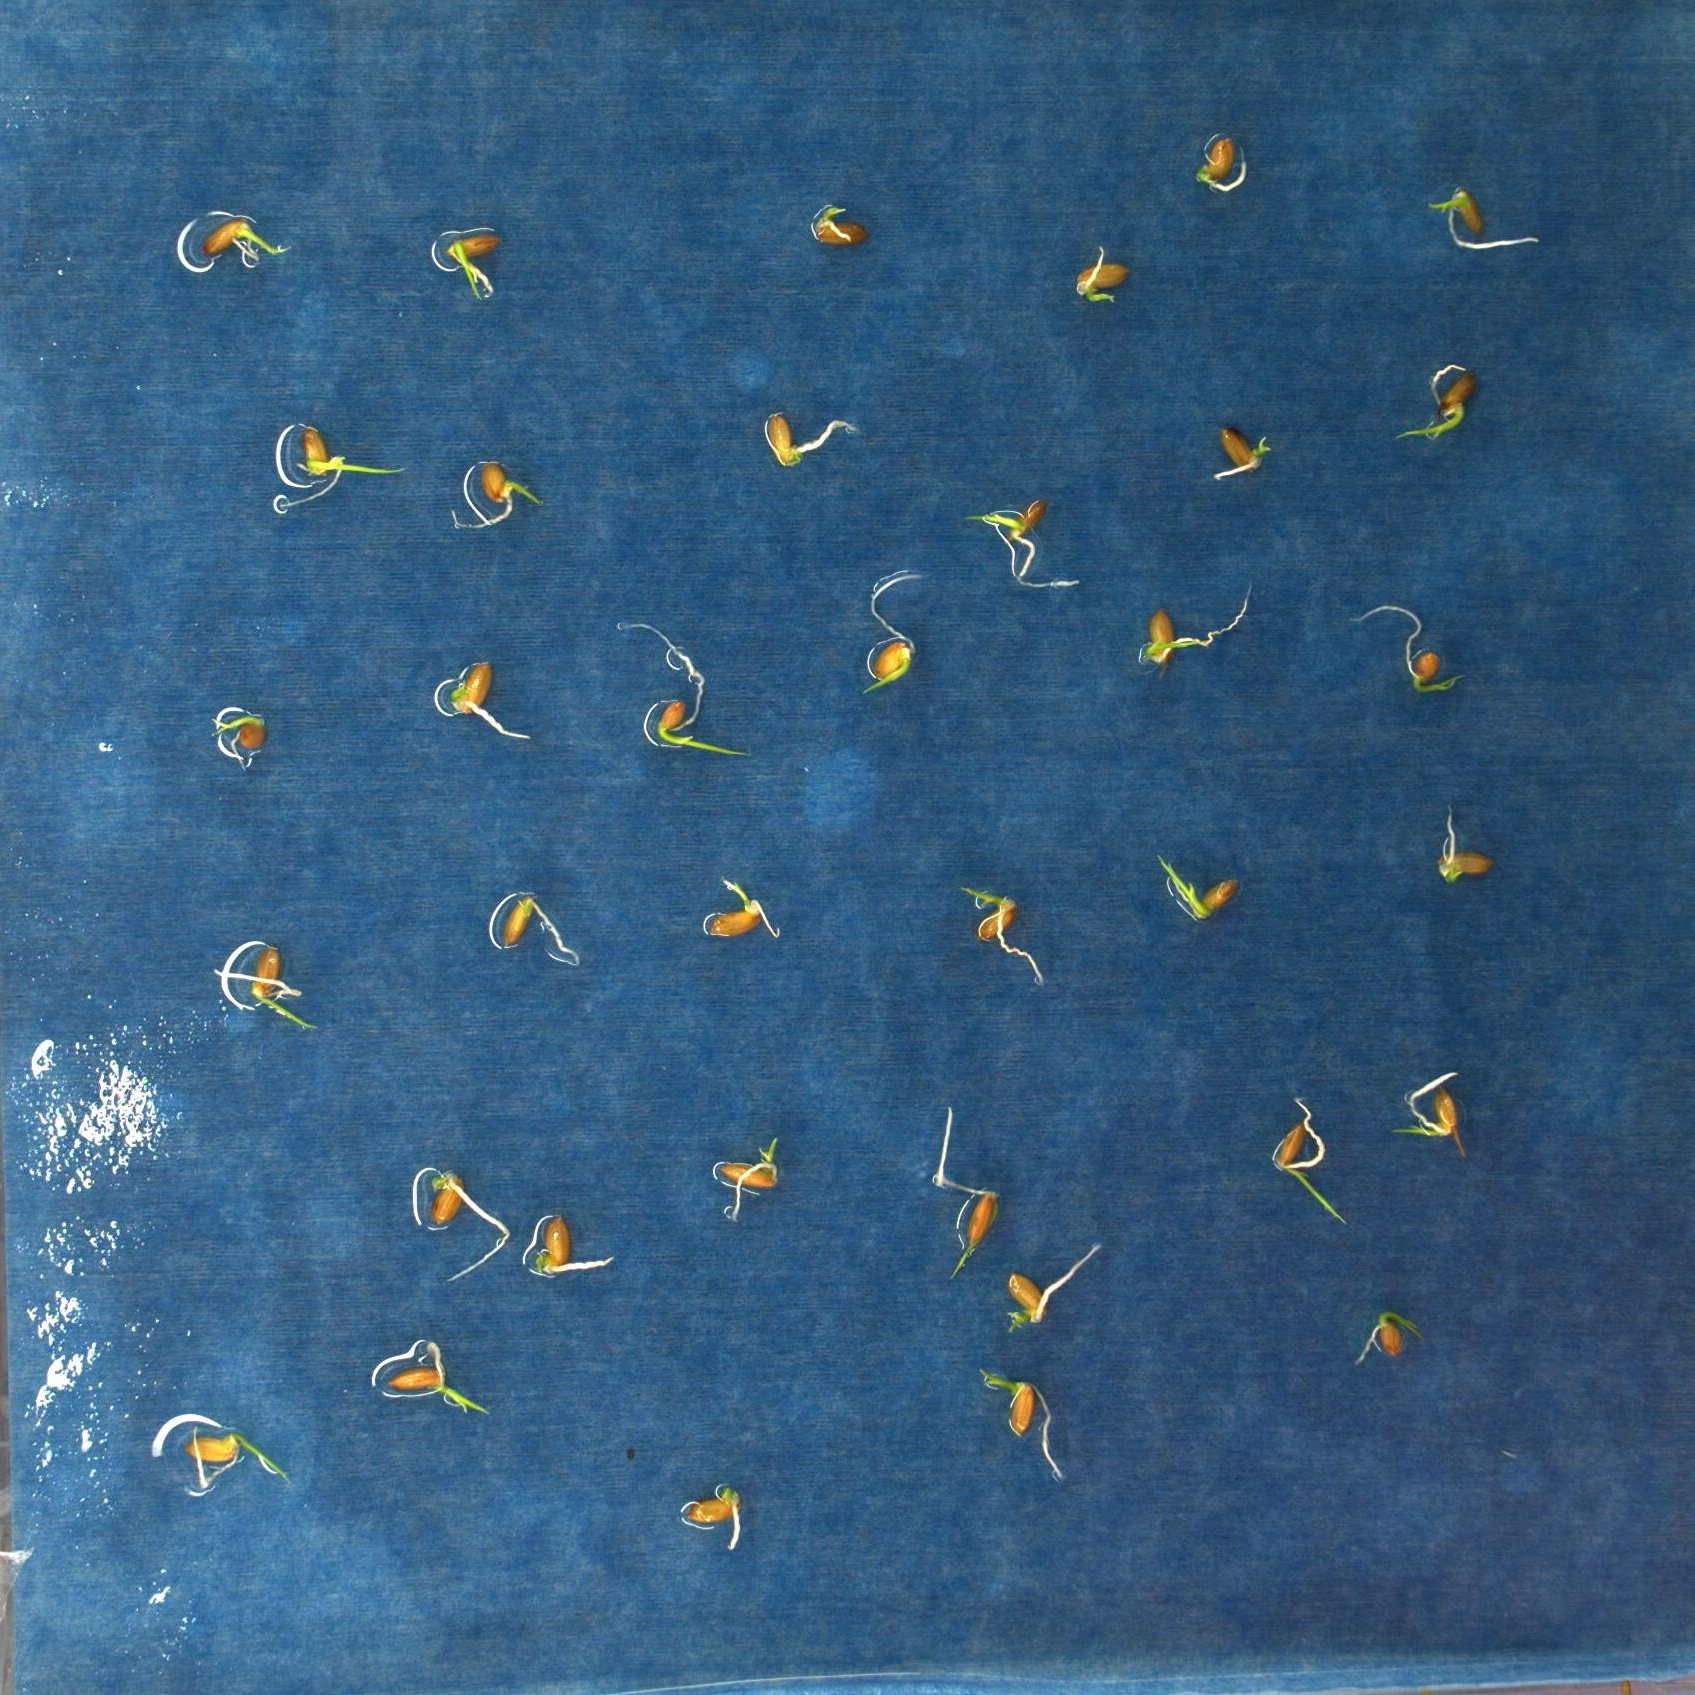not sprout: (428, 1164, 511, 1284), (765, 408, 855, 466), (534, 1212, 613, 1277), (1437, 801, 1498, 879), (686, 1482, 740, 1552), (1212, 424, 1271, 480)
sprout: (618, 622, 751, 761), (933, 1107, 998, 1284), (282, 424, 407, 508), (978, 1367, 1066, 1481), (1139, 584, 1251, 671), (1271, 1094, 1346, 1225), (1352, 605, 1465, 691), (1004, 1242, 1104, 1338), (214, 944, 317, 1035), (959, 885, 1046, 986), (959, 497, 1052, 588), (385, 1343, 492, 1416), (861, 573, 927, 692), (1426, 186, 1538, 251), (185, 1425, 293, 1490), (452, 459, 542, 532), (450, 657, 528, 740), (1394, 1069, 1465, 1158), (1395, 368, 1479, 439), (501, 894, 584, 965), (716, 1133, 779, 1225), (1156, 854, 1239, 920), (706, 875, 784, 941), (199, 214, 293, 261), (445, 230, 503, 300), (1354, 1309, 1420, 1367), (1071, 244, 1130, 306), (213, 706, 265, 771), (1195, 135, 1250, 191), (810, 206, 868, 245)
